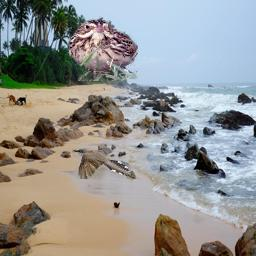Cuckoo: (72, 148, 131, 179)
Sparrow: (67, 19, 138, 81)
